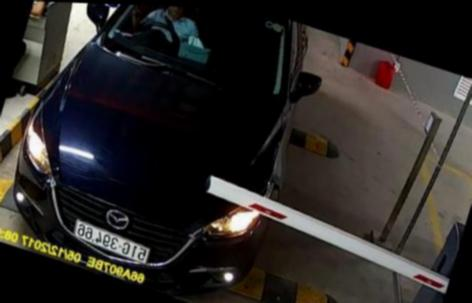License_Plate: (73, 218, 152, 264)
